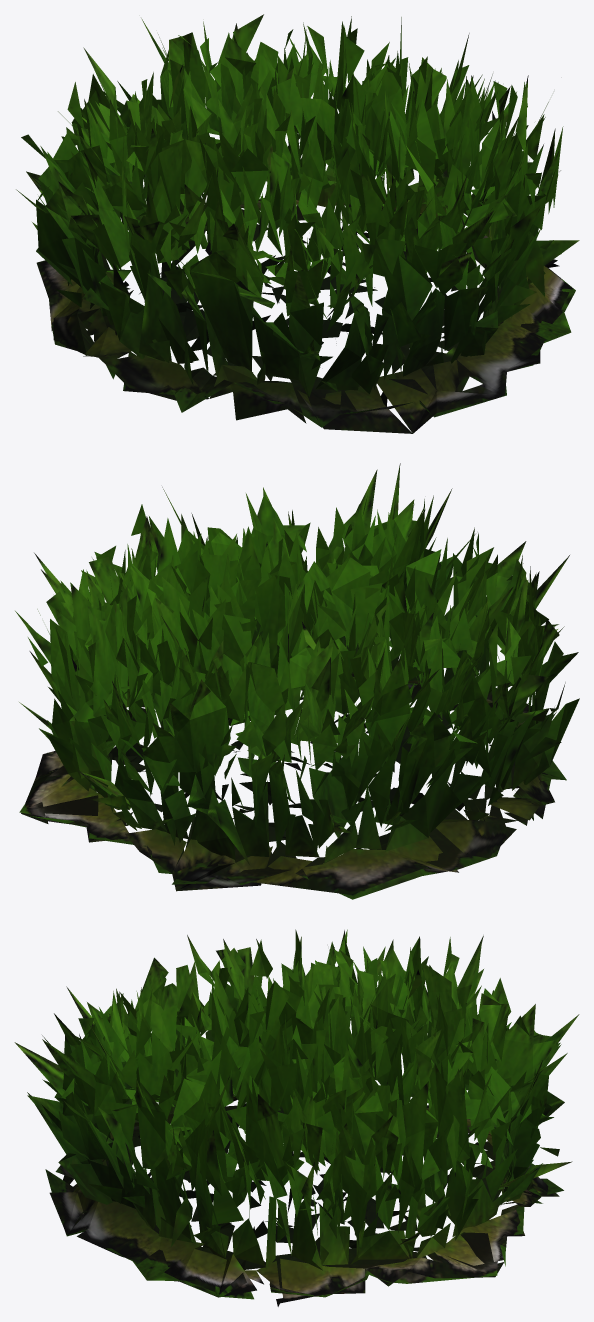
3 renders of one model, top to bottom at view 1: azimuth 30°, elevation 25°; view 2: azimuth 150°, elevation 25°; view 3: azimuth 270°, elevation 25°, orthographic. The views are drawn at different scales.
Parts seen in each view (by area): view 1: geometry_0.057_Baked; view 2: geometry_0.057_Baked; view 3: geometry_0.057_Baked.
Part boxes in pixels (x1,y1,x2,y2): geometry_0.057_Baked: [16, 14, 579, 433]; geometry_0.057_Baked: [15, 463, 579, 899]; geometry_0.057_Baked: [14, 929, 579, 1306].
Size of the model in its own units: 91.04 by 41.37 by 95.09.
